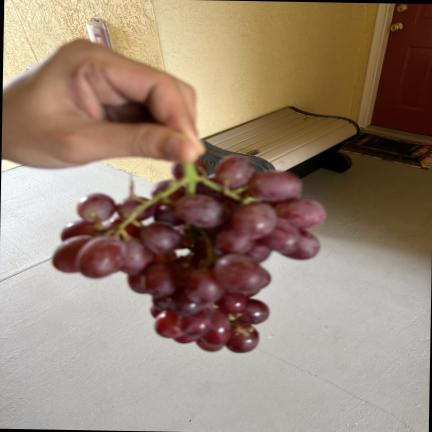grape_cluster: (52, 153, 325, 352)
